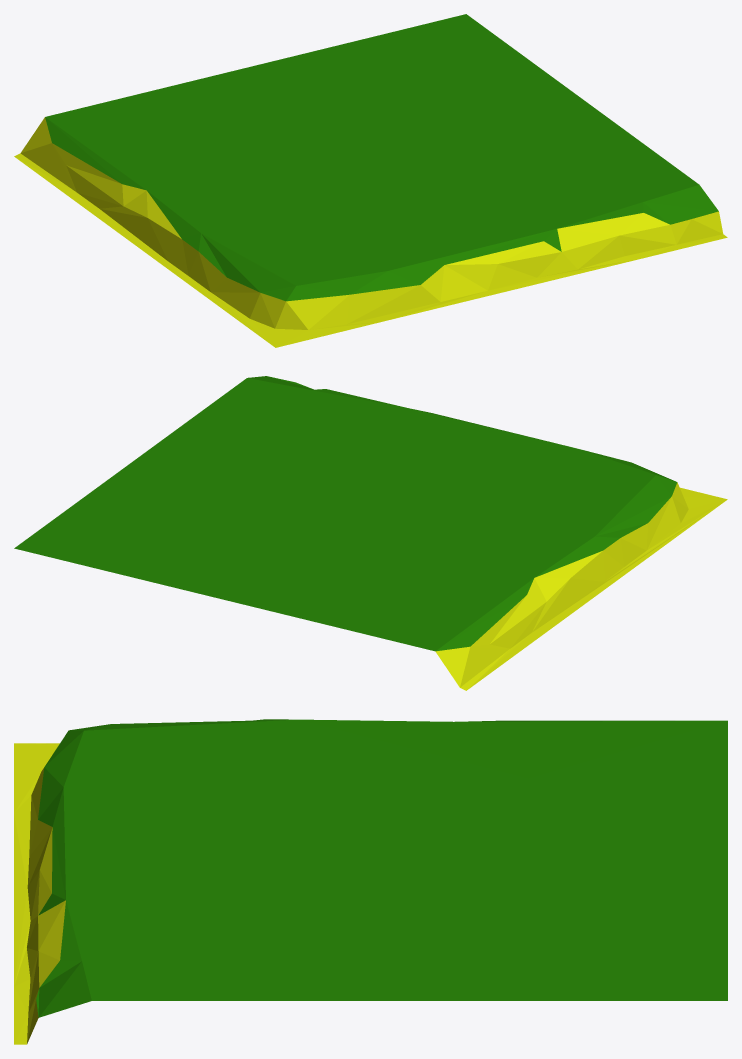
The picture shows the model from 3 angles, top to bottom: view 1: azimuth 30°, elevation 25°; view 2: azimuth 150°, elevation 25°; view 3: azimuth 270°, elevation 25°; orthographic projection. The views are drawn at different scales.
Visible parts, largest first — view 1: TerrainVeryHigh.002; view 2: TerrainVeryHigh.002; view 3: TerrainVeryHigh.002.
Part boxes in pixels (x1,y1,x2,y2): TerrainVeryHigh.002: (14, 14, 727, 347); TerrainVeryHigh.002: (14, 376, 727, 690); TerrainVeryHigh.002: (14, 719, 727, 1044).
Size of the model in its own units: 1247 by 1249 by 84.57.
